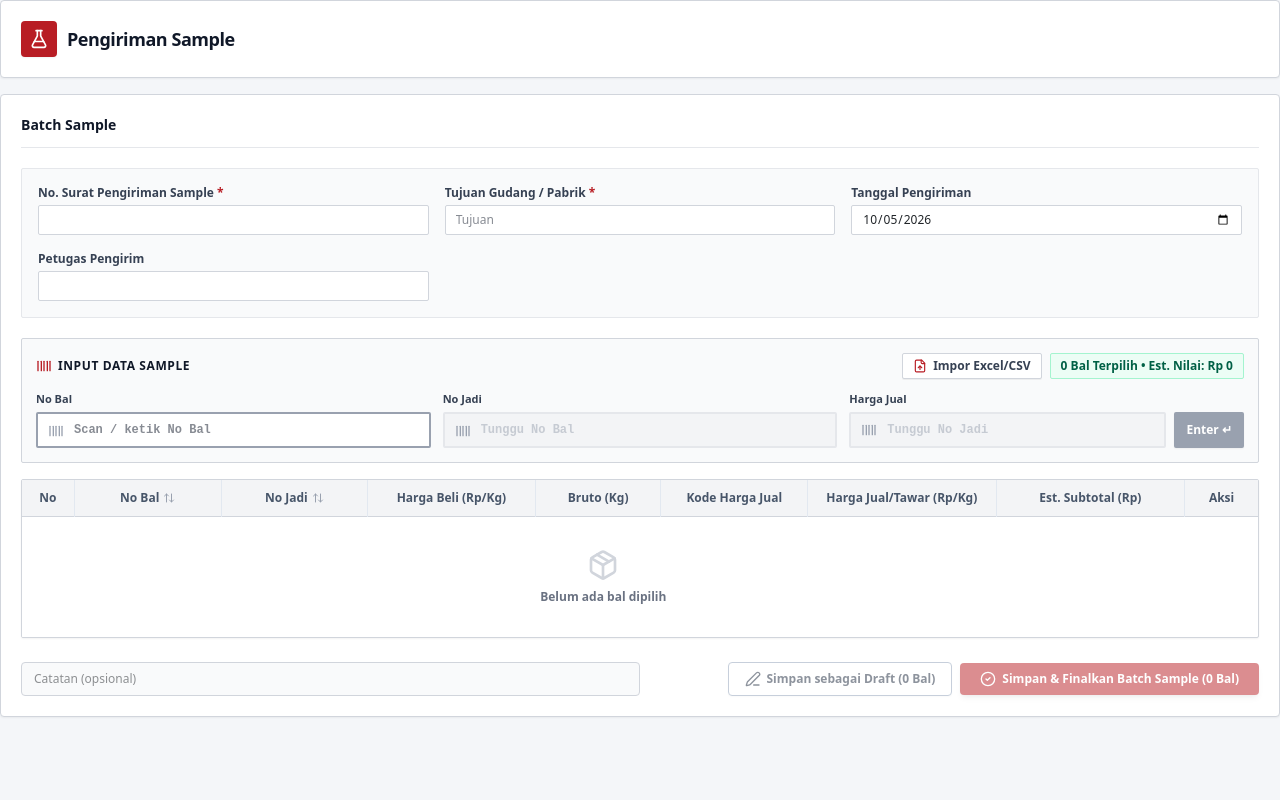
Test: Pengiriman Sample: bal yang sudah disortir boleh dipilih walau belum ditimbang dan belum dibayar › bal proses sortir muncul sebagai TERSEDIA dengan keterangan belum ditimbang
Type "HF0007" into the field with placeholder "Scan / ketik No Bal".
click(233, 430); type("HF0007")  # box x1=36 y1=412 x2=431 y2=448
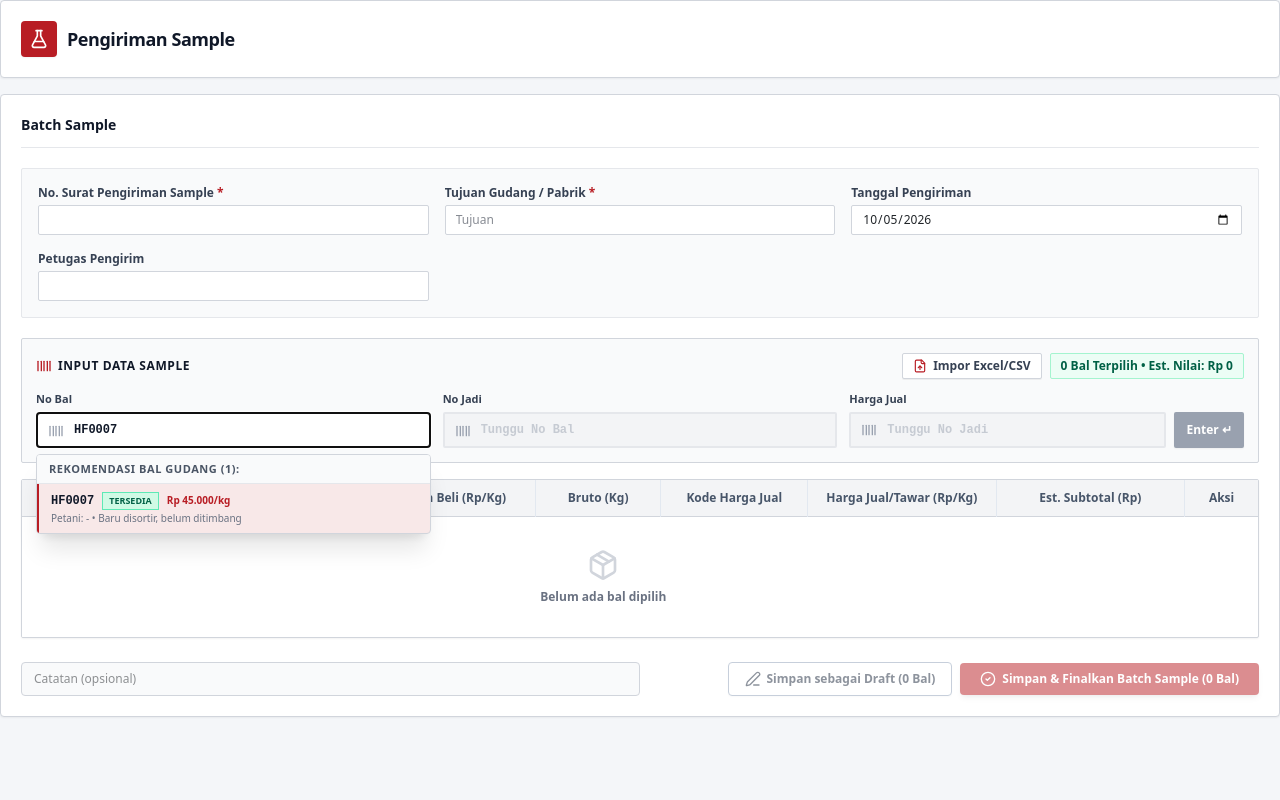
Now the text "TERSEDIA" is shown, box x1=102 y1=492 x2=159 y2=510
Now the text "Petani: - • Baru disortir, belum ditimbang" is shown, box x1=51 y1=511 x2=242 y2=525
